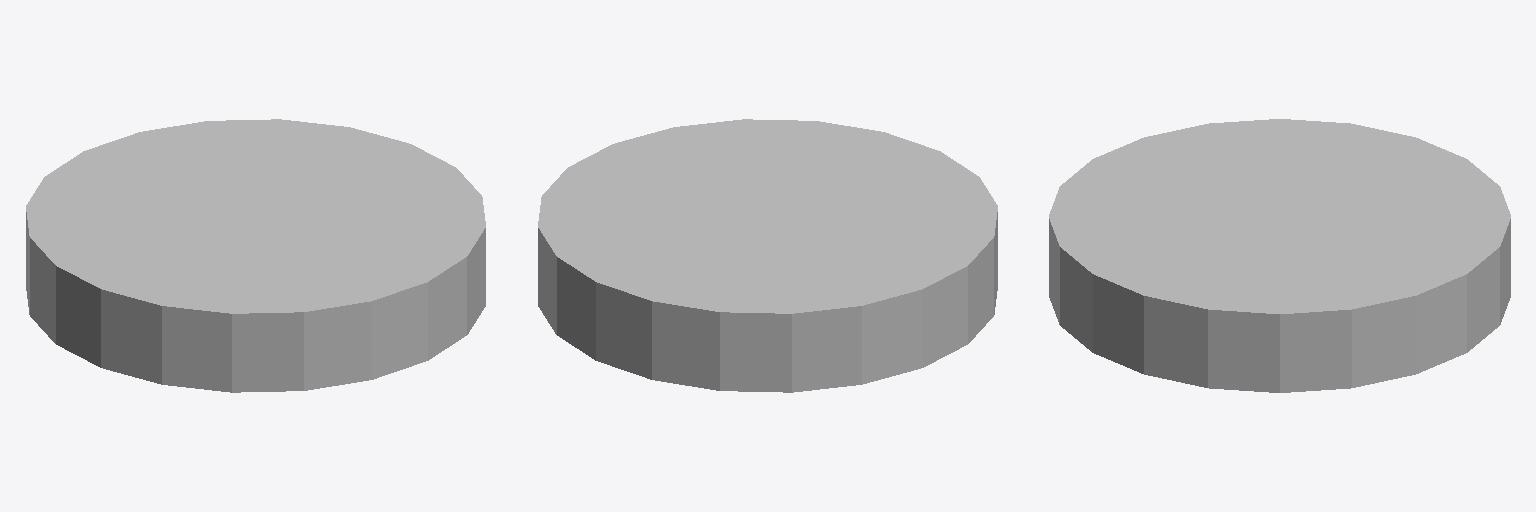
Rendered from iRobot-Create-LOD.obj.
3 renders of one model, left to right at view 1: azimuth 30°, elevation 25°; view 2: azimuth 150°, elevation 25°; view 3: azimuth 270°, elevation 25°, orthographic.
Visible parts, largest first — view 1: pCylinder11; view 2: pCylinder11; view 3: pCylinder11.
Boxes of the visible parts, <box> form: pCylinder11: <box>26,119,485,392</box>; pCylinder11: <box>538,119,997,392</box>; pCylinder11: <box>1049,119,1510,392</box>.
Bounding box in the file's own units: 0.33 × 0.062 × 0.33.